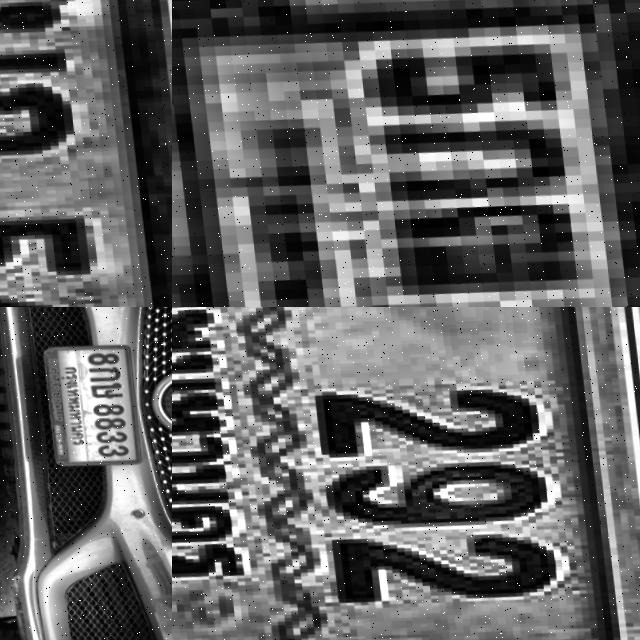license-plate: (172, 307, 640, 640), (172, 0, 640, 307), (0, 0, 172, 307), (37, 336, 146, 470)
